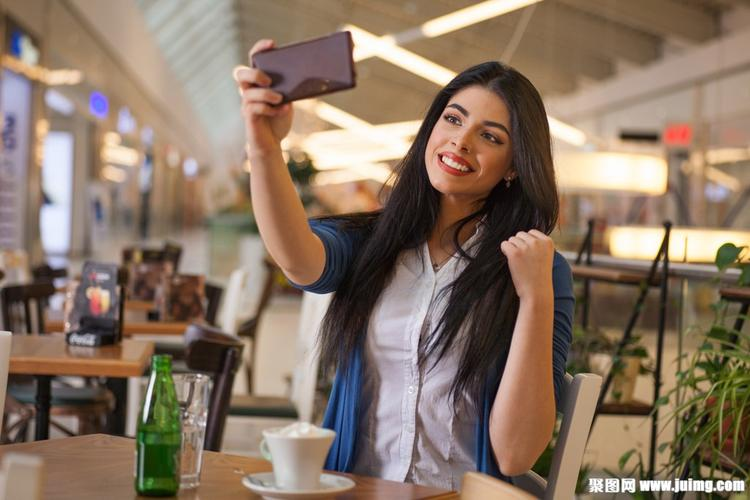taking photos: (229, 28, 362, 161)
